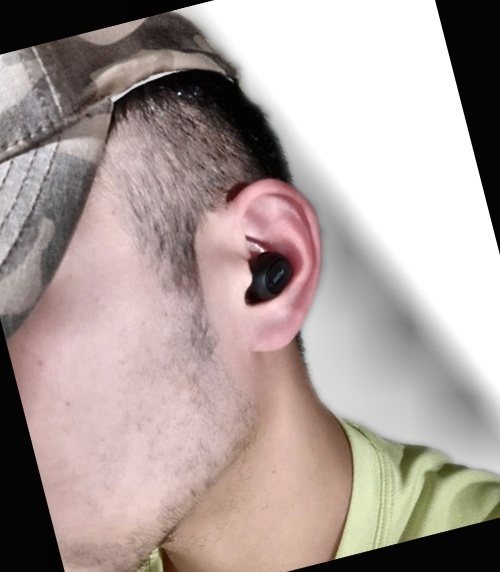earphone: (195, 168, 348, 362)
